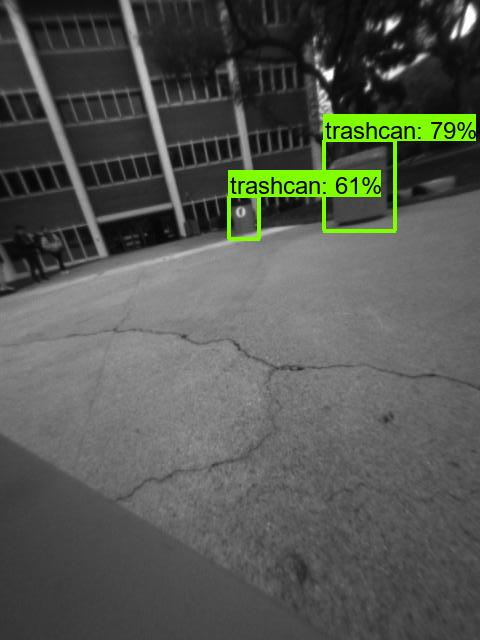trashcan: (327, 144, 390, 227), (228, 198, 259, 234)
